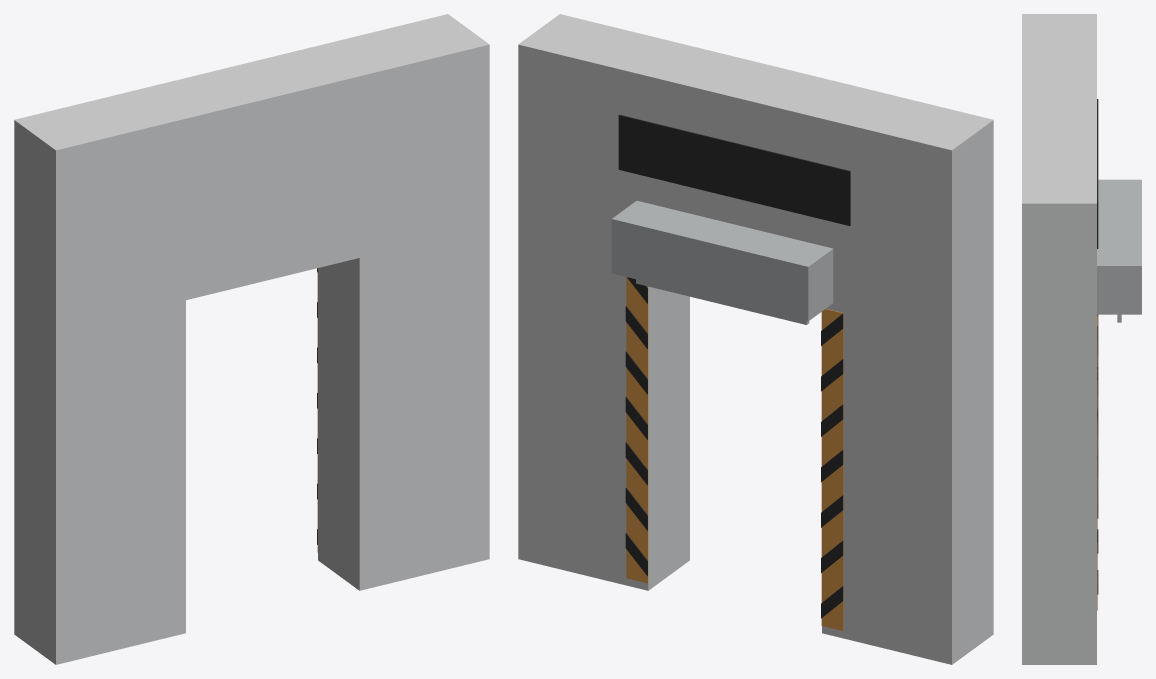
File: depot_intake_facade.glb
The picture shows the model from 3 angles, left to right: view 1: azimuth 30°, elevation 25°; view 2: azimuth 150°, elevation 25°; view 3: azimuth 270°, elevation 25°; orthographic projection. The views are drawn at different scales.
Parts seen in each view (by area): view 1: static_facade; view 2: static_facade, shutter; view 3: static_facade.
Boxes of the visible parts, x1,y1,x2,y2 form: static_facade: (14,14,489,664); static_facade: (518,14,993,664); shutter: (636,279,809,324); static_facade: (1022,14,1141,664).
Size of the model in its own units: 3 by 3.4 by 0.8.
